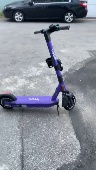beam: (1, 23, 77, 111)
